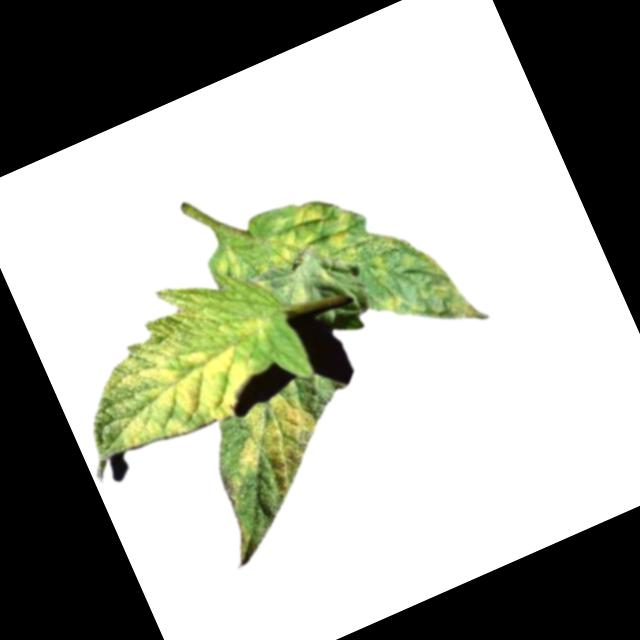Leaf_Mold: (83, 306, 262, 464), (220, 384, 339, 509), (249, 224, 319, 283), (228, 303, 280, 356), (322, 210, 368, 267), (286, 196, 326, 231), (376, 292, 406, 320)
